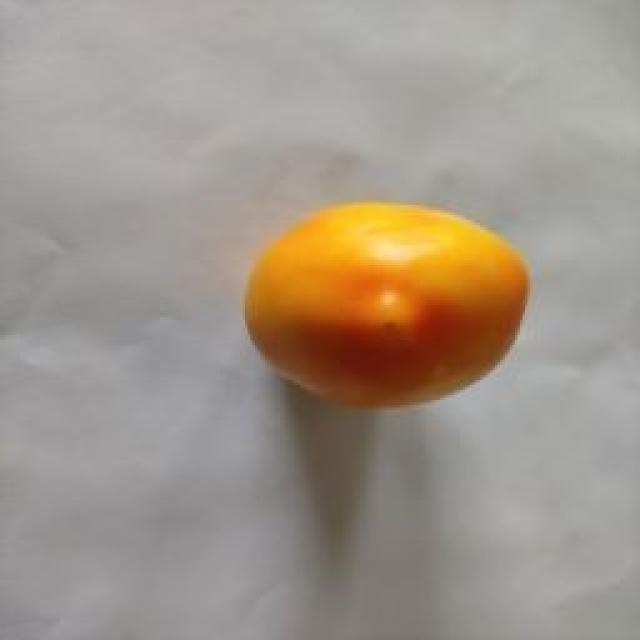unripe: (145, 85, 530, 447)
